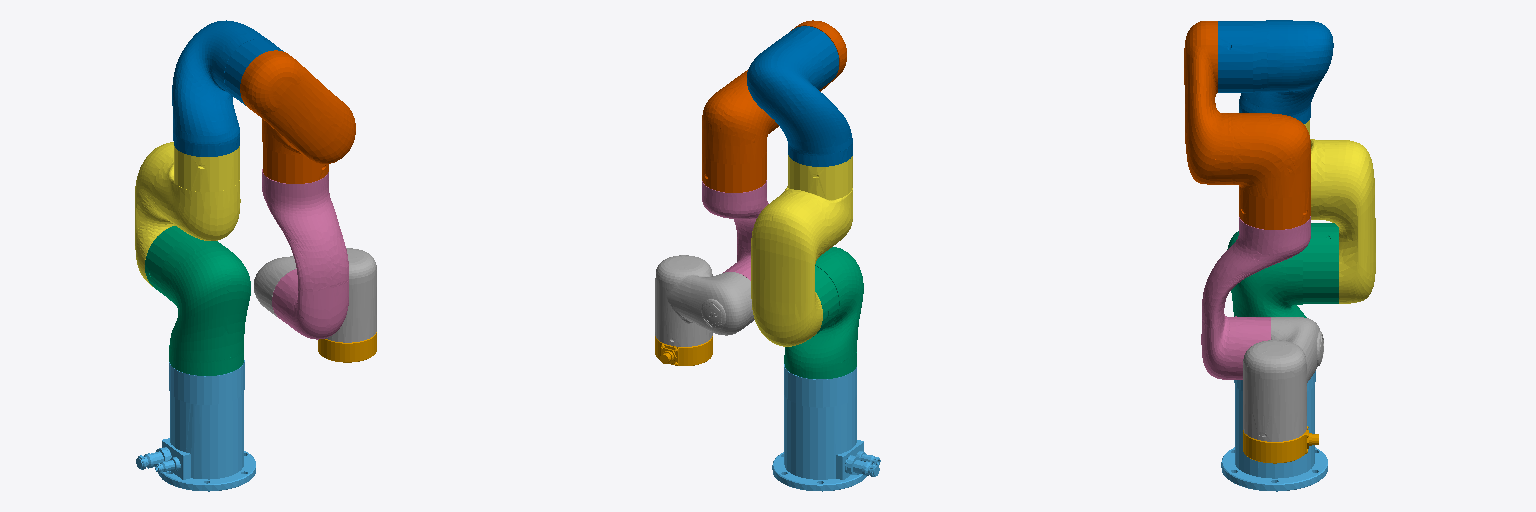
robot.urdf — xarm7:
<?xml version="1.0"?>
<!-- UFACTORY xArm 7, plain URDF (xacro-expanded, ROS package paths removed).
     Source: xArm-Developer/xarm_ros2 (BSD-3-Clause)
     Joint origins from xarm7_default_kinematics.yaml.
     Visual meshes are at xyz=0 0 0 in each link's frame (no offset to bake in). -->
<robot name="xarm7">

  <link name="world" />

  <joint name="world_joint" type="fixed">
    <parent link="world" />
    <child link="link_base" />
    <origin xyz="0 0 0" rpy="0 0 0" />
  </joint>

  <link name="link_base">
    <visual>
      <origin xyz="0 0 0" rpy="0 0 0" />
      <geometry><mesh filename="meshes/visual/link_base/link_base.obj" /></geometry>
    </visual>
  </link>

  <joint name="joint1" type="revolute">
    <parent link="link_base" />
    <child link="link1" />
    <origin xyz="0 0 0.267" rpy="0 0 0" />
    <axis xyz="0 0 1" />
    <limit lower="-6.2832" upper="6.2832" effort="50" velocity="3.1416" />
  </joint>

  <link name="link1">
    <visual>
      <origin xyz="0 0 0" rpy="0 0 0" />
      <geometry><mesh filename="meshes/visual/link1/link1.obj" /></geometry>
    </visual>
  </link>

  <joint name="joint2" type="revolute">
    <parent link="link1" />
    <child link="link2" />
    <origin xyz="0 0 0" rpy="-1.5708 0 0" />
    <axis xyz="0 0 1" />
    <limit lower="-2.0944" upper="2.0944" effort="50" velocity="3.1416" />
  </joint>

  <link name="link2">
    <visual>
      <origin xyz="0 0 0" rpy="0 0 0" />
      <geometry><mesh filename="meshes/visual/link2/link2.obj" /></geometry>
    </visual>
  </link>

  <joint name="joint3" type="revolute">
    <parent link="link2" />
    <child link="link3" />
    <origin xyz="0 -0.293 0" rpy="1.5708 0 0" />
    <axis xyz="0 0 1" />
    <limit lower="-6.2832" upper="6.2832" effort="32" velocity="3.1416" />
  </joint>

  <link name="link3">
    <visual>
      <origin xyz="0 0 0" rpy="0 0 0" />
      <geometry><mesh filename="meshes/visual/link3/link3.obj" /></geometry>
    </visual>
  </link>

  <joint name="joint4" type="revolute">
    <parent link="link3" />
    <child link="link4" />
    <origin xyz="0.0525 0 0" rpy="1.5708 0 0" />
    <axis xyz="0 0 1" />
    <limit lower="-0.1920" upper="3.1416" effort="32" velocity="3.1416" />
  </joint>

  <link name="link4">
    <visual>
      <origin xyz="0 0 0" rpy="0 0 0" />
      <geometry><mesh filename="meshes/visual/link4/link4.obj" /></geometry>
    </visual>
  </link>

  <joint name="joint5" type="revolute">
    <parent link="link4" />
    <child link="link5" />
    <origin xyz="0.0775 -0.3425 0" rpy="1.5708 0 0" />
    <axis xyz="0 0 1" />
    <limit lower="-6.2832" upper="6.2832" effort="20" velocity="3.1416" />
  </joint>

  <link name="link5">
    <visual>
      <origin xyz="0 0 0" rpy="0 0 0" />
      <geometry><mesh filename="meshes/visual/link5/link5.obj" /></geometry>
    </visual>
  </link>

  <joint name="joint6" type="revolute">
    <parent link="link5" />
    <child link="link6" />
    <origin xyz="0 0 0" rpy="1.5708 0 0" />
    <axis xyz="0 0 1" />
    <limit lower="-1.6930" upper="3.1416" effort="15" velocity="3.1416" />
  </joint>

  <link name="link6">
    <visual>
      <origin xyz="0 0 0" rpy="0 0 0" />
      <geometry><mesh filename="meshes/visual/link6/link6.obj" /></geometry>
    </visual>
  </link>

  <joint name="joint7" type="revolute">
    <parent link="link6" />
    <child link="link7" />
    <origin xyz="0.076 0.097 0" rpy="-1.5708 0 0" />
    <axis xyz="0 0 1" />
    <limit lower="-6.2832" upper="6.2832" effort="10" velocity="3.1416" />
  </joint>

  <link name="link7">
    <visual>
      <origin xyz="0 0 0" rpy="0 0 0" />
      <geometry><mesh filename="meshes/visual/link7/link7.obj" /></geometry>
    </visual>
  </link>

  <joint name="joint_eef" type="fixed">
    <parent link="link7" />
    <child link="link_eef" />
    <origin xyz="0 0 0" rpy="0 0 0" />
  </joint>

  <link name="link_eef" />

</robot>

--- Render facts (derived) ---
The picture shows the robot from 3 angles, left to right: view 1: azimuth 30°, elevation 25°; view 2: azimuth 150°, elevation 25°; view 3: azimuth 270°, elevation 25°; orthographic projection.
Robot: xarm7 — 10 links, 9 joints (7 revolute, 2 fixed); root link world; default pose: all joints at 0.
Links seen in each view (by area): view 1: link1, link4, link5, link_base, link3, link2, link6, link7; view 2: link2, link3, link_base, link4, link6, link1, link5, link7; view 3: link4, link3, link2, link6, link5, link1, link_base, link7.
Link boxes in pixels (x1,y1,x2,y2): link1: (145,226,250,375); link4: (240,50,355,183); link5: (262,169,348,339); link_base: (136,360,255,491); link3: (172,20,283,156); link2: (135,142,240,286); link6: (254,248,376,342); link7: (318,332,376,362); link2: (751,155,852,346); link3: (747,26,852,166); link_base: (772,364,880,491); link4: (702,20,846,192); link6: (655,255,754,346); link1: (784,247,863,378); link5: (702,180,768,280); link7: (655,336,712,365); link4: (1184,21,1310,229); link3: (1218,20,1333,123); link2: (1304,120,1375,303); link6: (1243,317,1323,441); link5: (1201,216,1310,379); link1: (1227,223,1338,317); link_base: (1221,371,1327,491); link7: (1243,426,1318,463).
Bounding box of the posed robot: 0.3358 × 0.2259 × 0.6028 m (x, y, z).
8 mesh visuals loaded from 8 distinct referenced files (8 OBJ).
